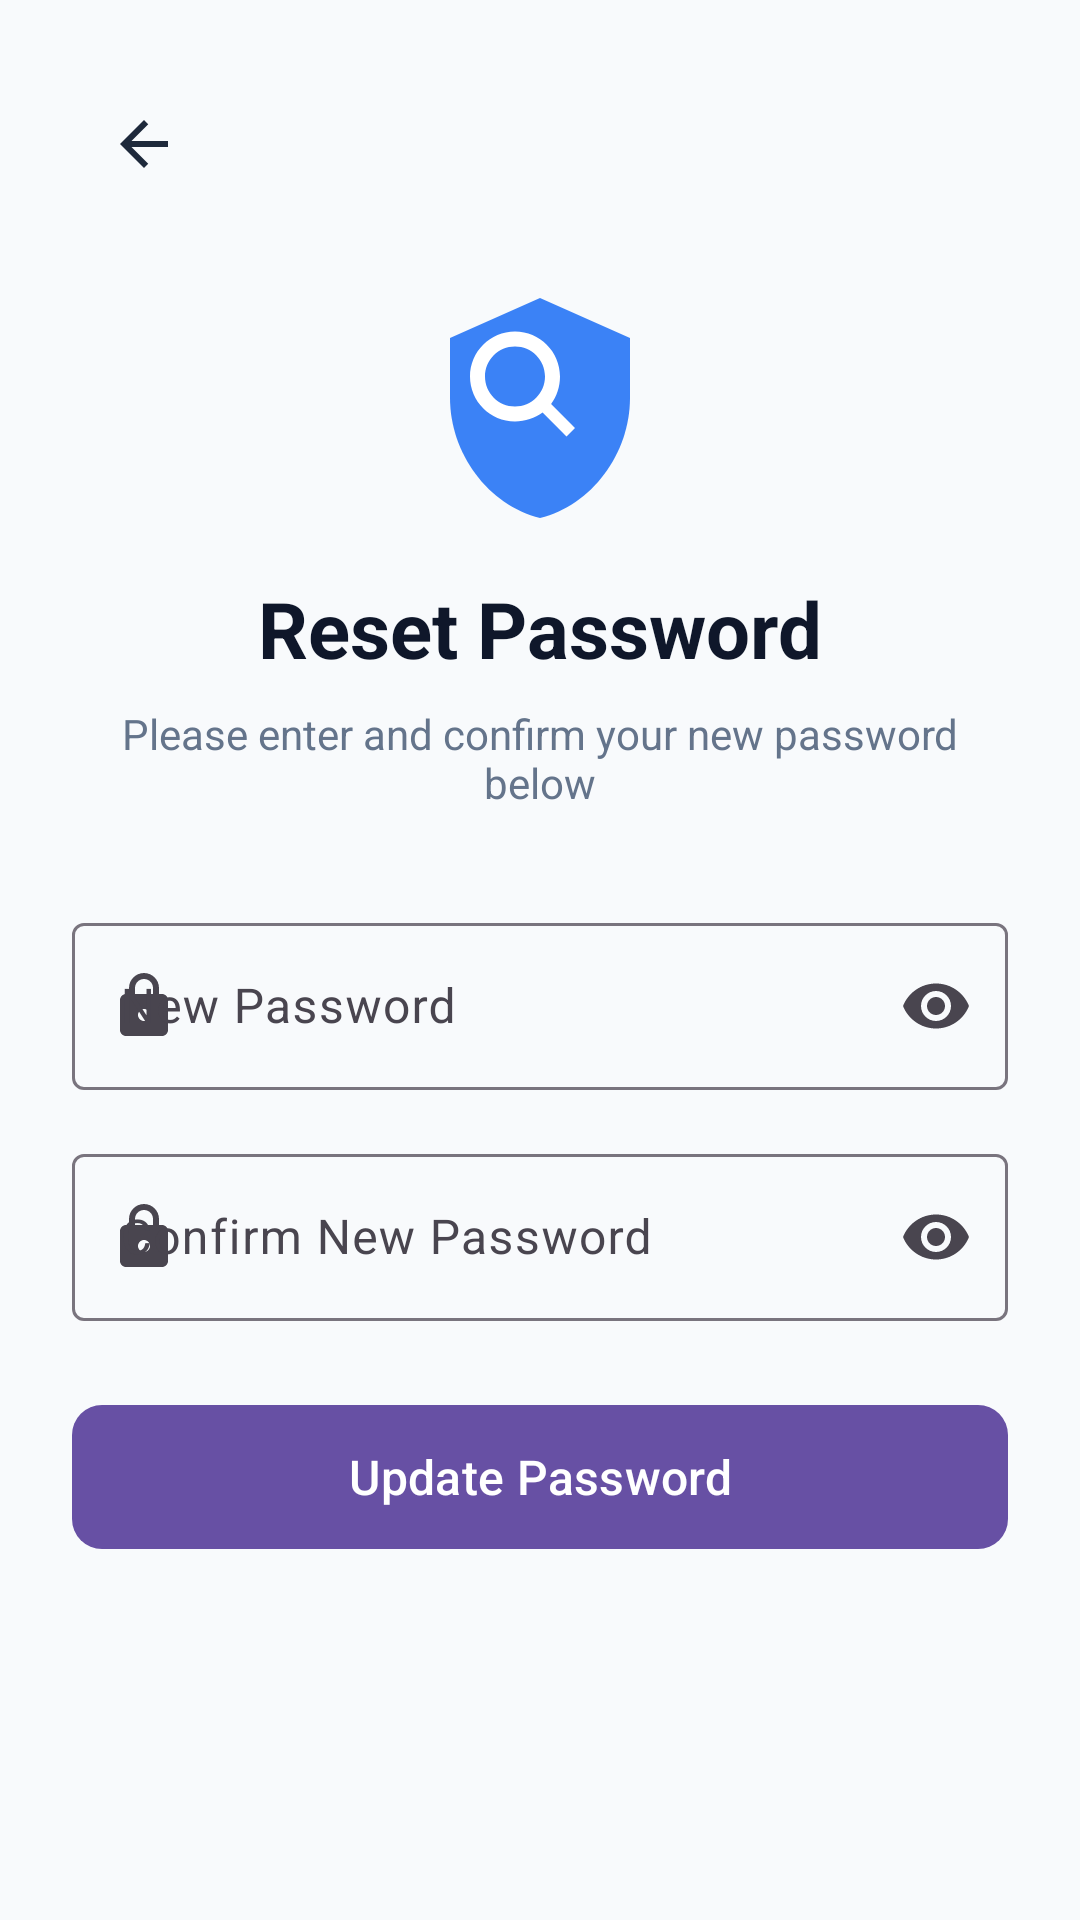

Point at icon controls on the screen. Image size 1080 × 1920, points as (x,y).
Back to Sign In: (144,144)
